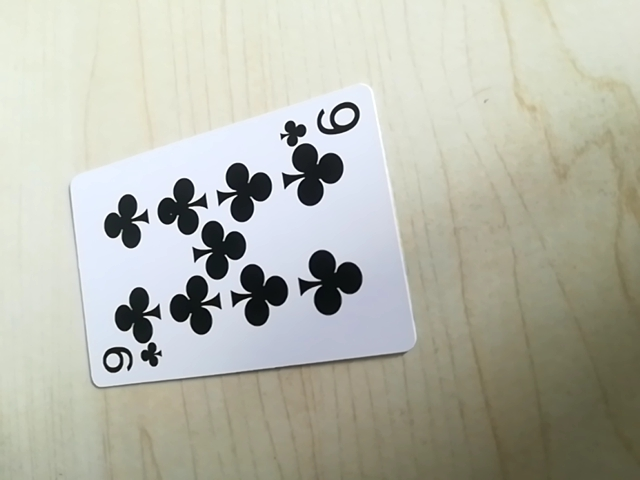mh 9: (279, 97, 365, 143), (96, 337, 166, 383)
